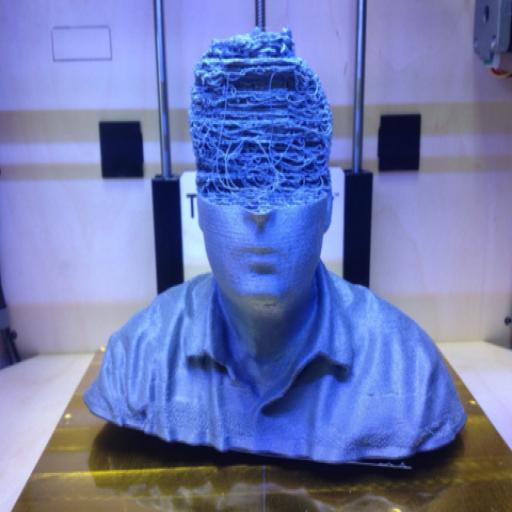spaghetti: (185, 21, 341, 197)
